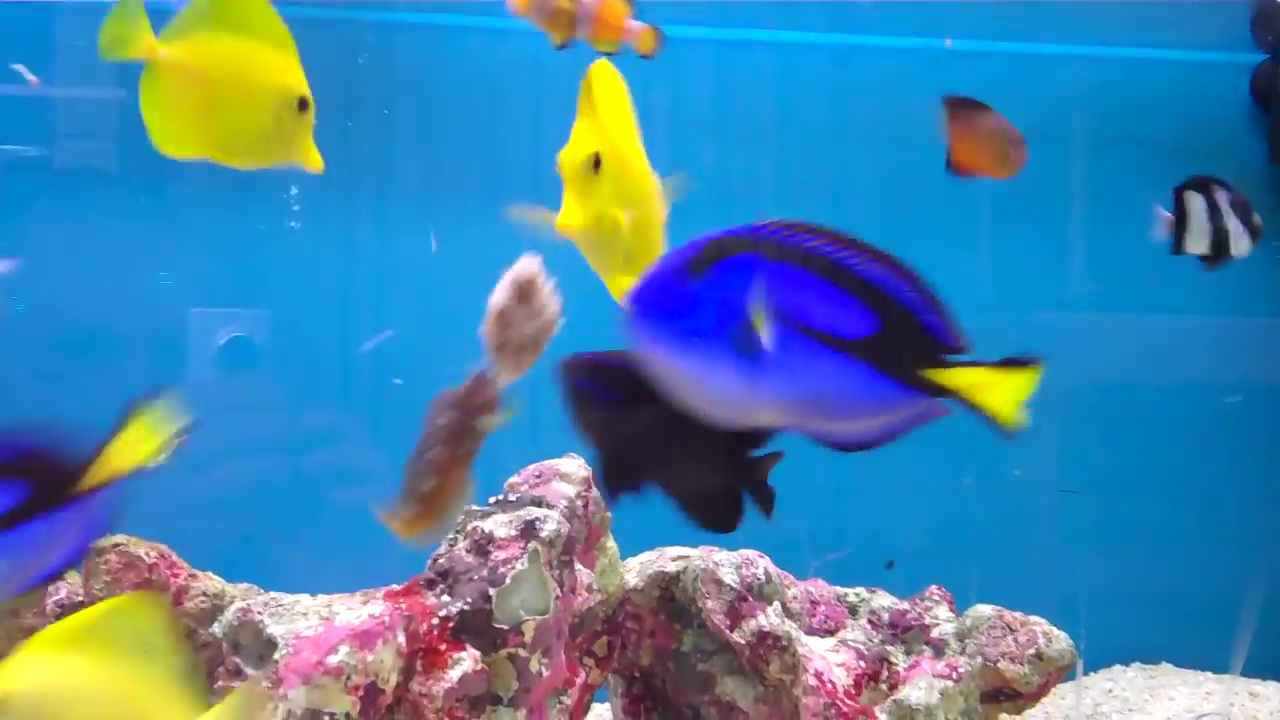blue tang surgeonfish: (605, 224, 1060, 451)
saddle butterfly fish: (80, 0, 340, 189), (529, 45, 692, 295)
